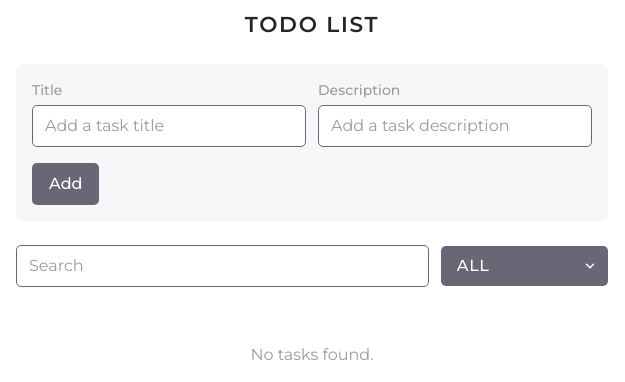
Scenario: App › adds a task with title and description
Type "Buy breakfast" into the field labelled "Title" at (169, 126), box 32,105 -> 306,147
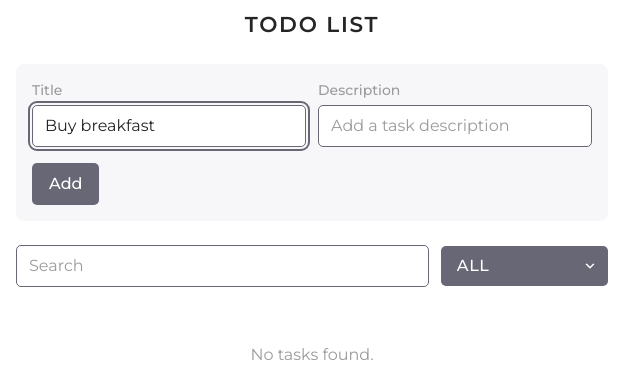
Type "Eggs and bread" into the field labelled "Description" at (455, 126), box 318,105 -> 592,147
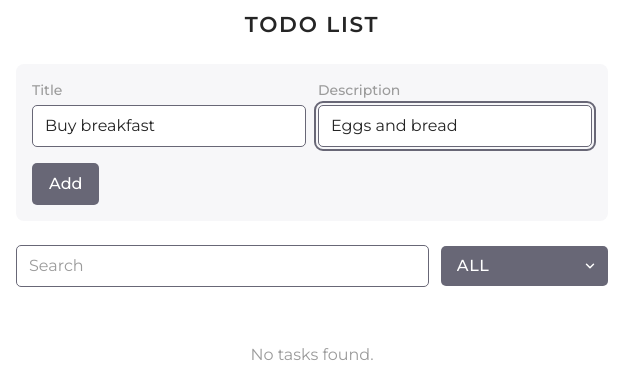
Click the button "Add" at (66, 184), box 32,163 -> 100,205
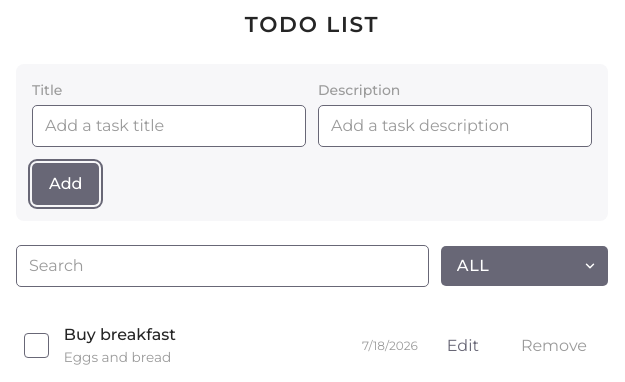
Now the text "Buy breakfast" is shown, box 64,325 -> 176,344
Now the text "Eggs and bread" is shown, box 64,349 -> 171,365
